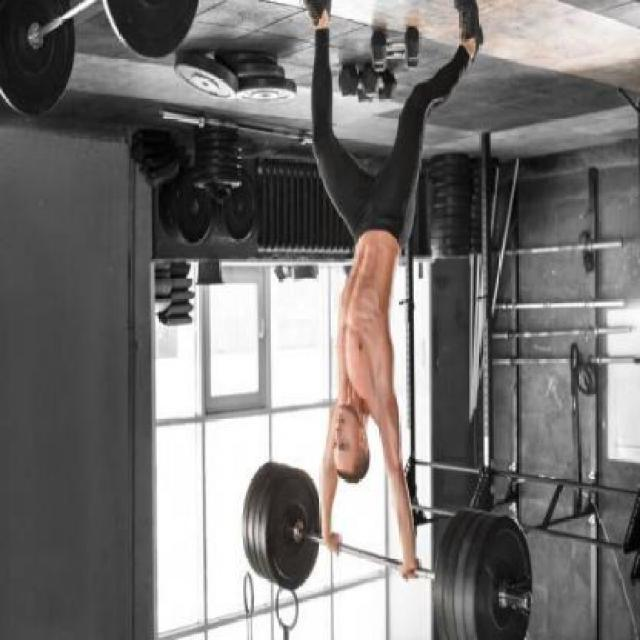Barbell: (522, 588, 535, 614)
